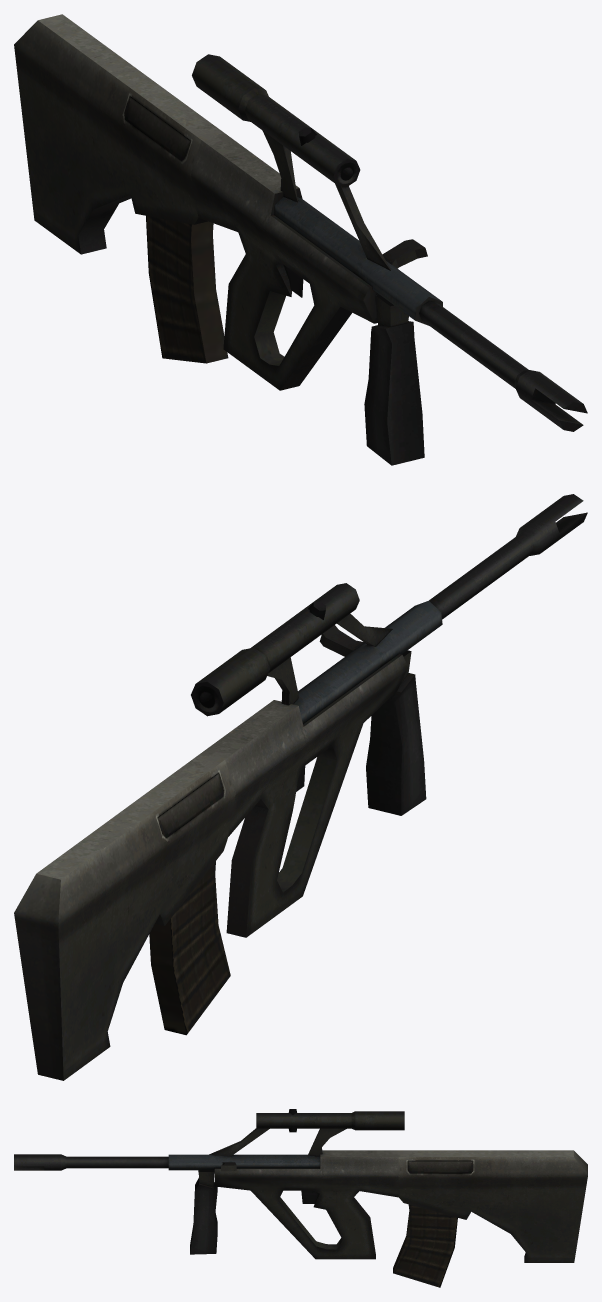
Rendered from cs-weapon-aug-counter-strike-source.glb.
The picture shows the model from 3 angles, top to bottom: view 1: azimuth 30°, elevation 25°; view 2: azimuth 150°, elevation 25°; view 3: azimuth 270°, elevation 25°; orthographic projection. The views are drawn at different scales.
Size of the model in its own units: 2.64 by 11.72 by 34.66.
1 material, 1 textured.
